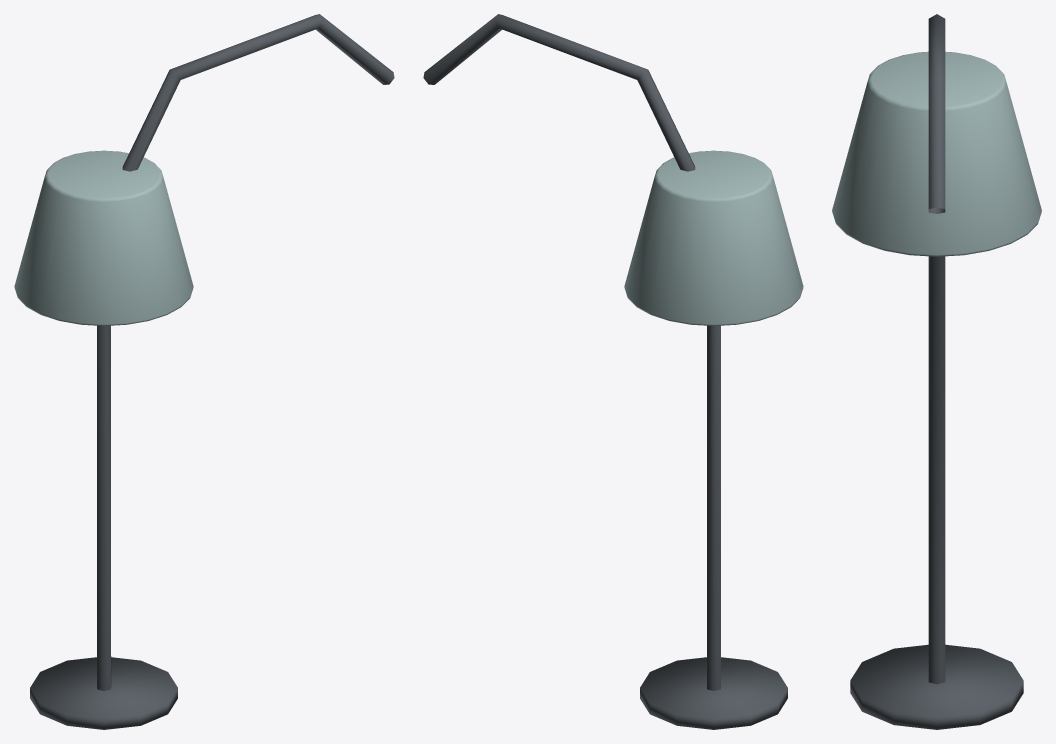
File: atelier-arc-floor-lamp.glb
3 renders of one model, left to right at view 1: azimuth 30°, elevation 25°; view 2: azimuth 150°, elevation 25°; view 3: azimuth 270°, elevation 25°, orthographic. The views are drawn at different scales.
Parts seen in each view (by area): view 1: fabric.062, metal.069; view 2: fabric.062, metal.069; view 3: fabric.062, metal.069.
Part boxes in pixels (x1=…): fabric.062: x1=14, y1=150, x2=193, y2=325; metal.069: x1=30, y1=14, x2=394, y2=729; fabric.062: x1=624, y1=150, x2=803, y2=325; metal.069: x1=423, y1=14, x2=787, y2=729; fabric.062: x1=832, y1=51, x2=1041, y2=256; metal.069: x1=850, y1=14, x2=1023, y2=729.
Size of the model in its own units: 1.03 by 1.7 by 0.4366.
